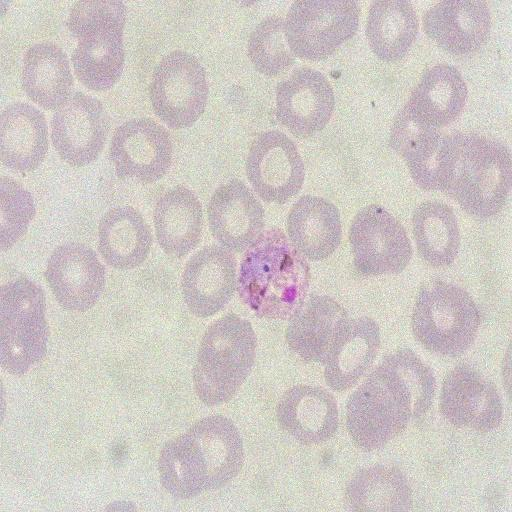Infected: (237, 230, 309, 318)
Uninfected: (160, 415, 244, 497), (434, 132, 512, 214), (344, 365, 416, 451), (192, 315, 256, 405), (410, 280, 480, 358), (68, 2, 128, 88), (349, 203, 413, 276), (403, 65, 469, 135), (286, 295, 351, 366), (438, 364, 503, 434), (395, 118, 460, 188), (1, 277, 48, 373), (150, 51, 210, 126), (283, 0, 358, 60), (178, 243, 238, 318), (44, 242, 107, 313), (48, 95, 110, 166), (244, 130, 305, 202), (109, 118, 173, 184), (325, 313, 382, 386), (377, 349, 434, 422), (276, 383, 341, 446), (275, 68, 334, 137), (423, 0, 492, 59), (151, 185, 205, 256), (207, 180, 264, 247), (288, 196, 344, 262), (1, 100, 51, 173), (95, 206, 152, 269), (22, 43, 76, 108), (411, 198, 460, 268), (365, 0, 420, 61), (246, 15, 298, 75)
